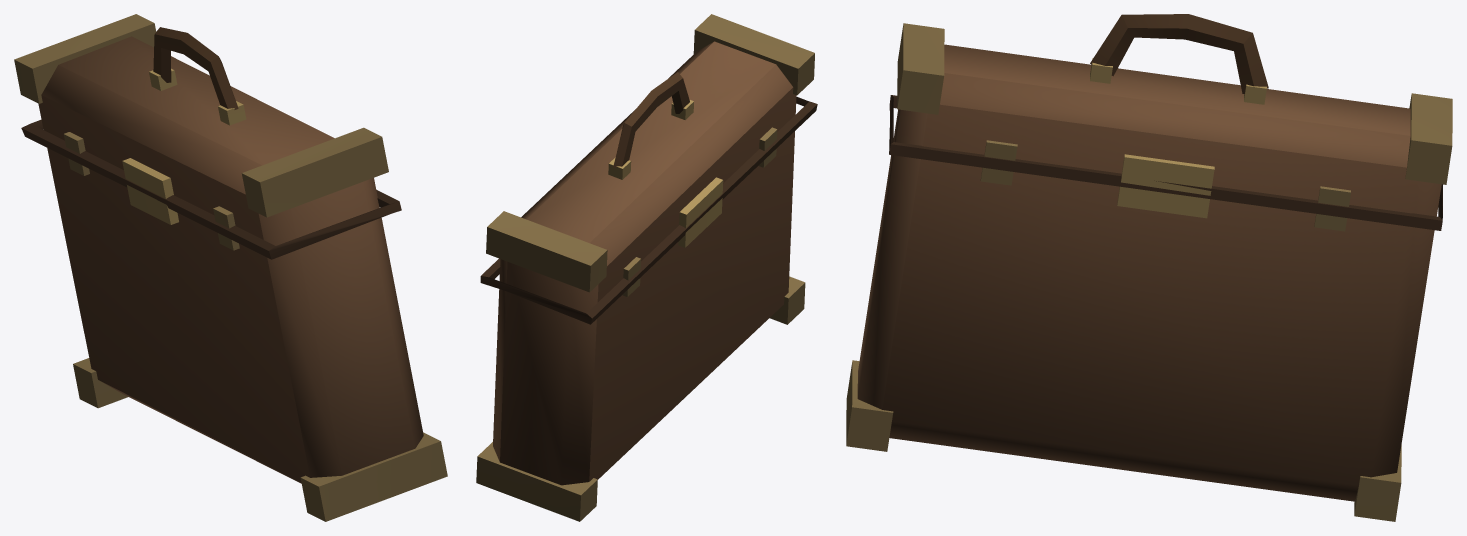
Rendered from ph_tool_case.glb.
The picture shows the model from 3 angles, left to right: view 1: azimuth 30°, elevation 25°; view 2: azimuth 150°, elevation 25°; view 3: azimuth 270°, elevation 25°; orthographic projection. The views are drawn at different scales.
Visible parts, largest first — view 1: ph_tool_case; view 2: ph_tool_case; view 3: ph_tool_case.
Part boxes in pixels (left/top/right/bottom): ph_tool_case: left=14, top=14, right=447, bottom=521; ph_tool_case: left=476, top=14, right=817, bottom=521; ph_tool_case: left=846, top=14, right=1452, bottom=521.
Size of the model in its own units: 0.1632 by 0.3977 by 0.4678.
